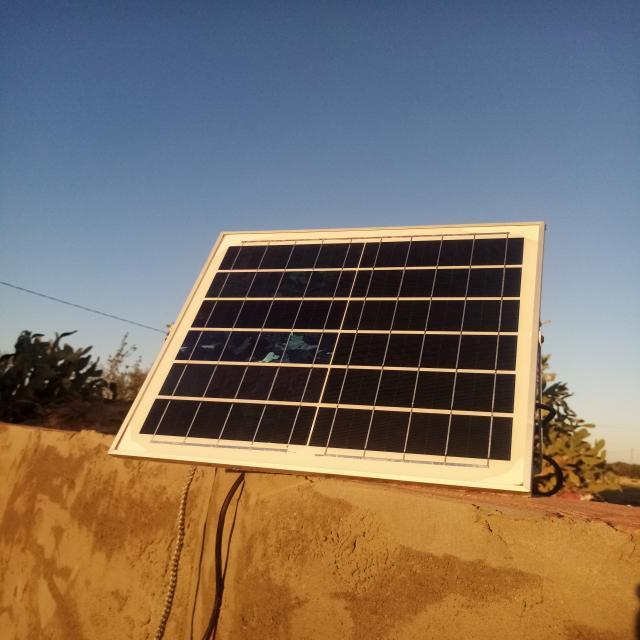no faulty: (110, 222, 545, 493)
